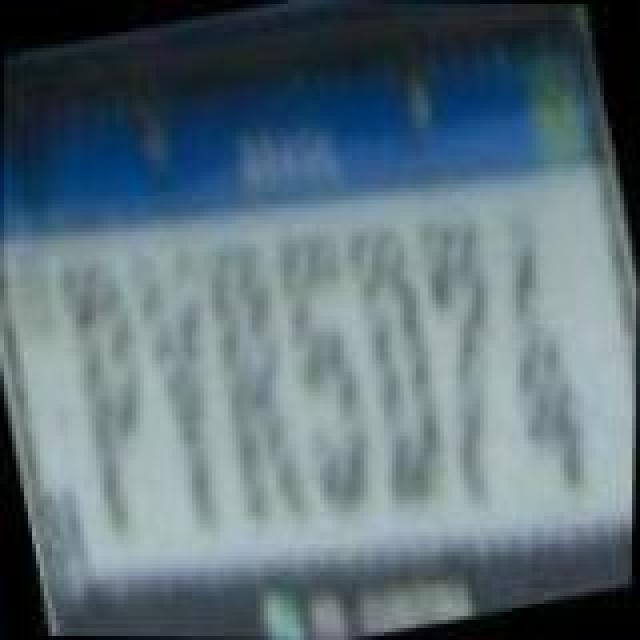4: (478, 194, 606, 502)
5: (264, 216, 396, 520)
7: (404, 198, 536, 510)
D: (334, 218, 462, 514)
P: (46, 248, 178, 544)
R: (190, 228, 322, 536)
Y: (116, 238, 252, 542)
